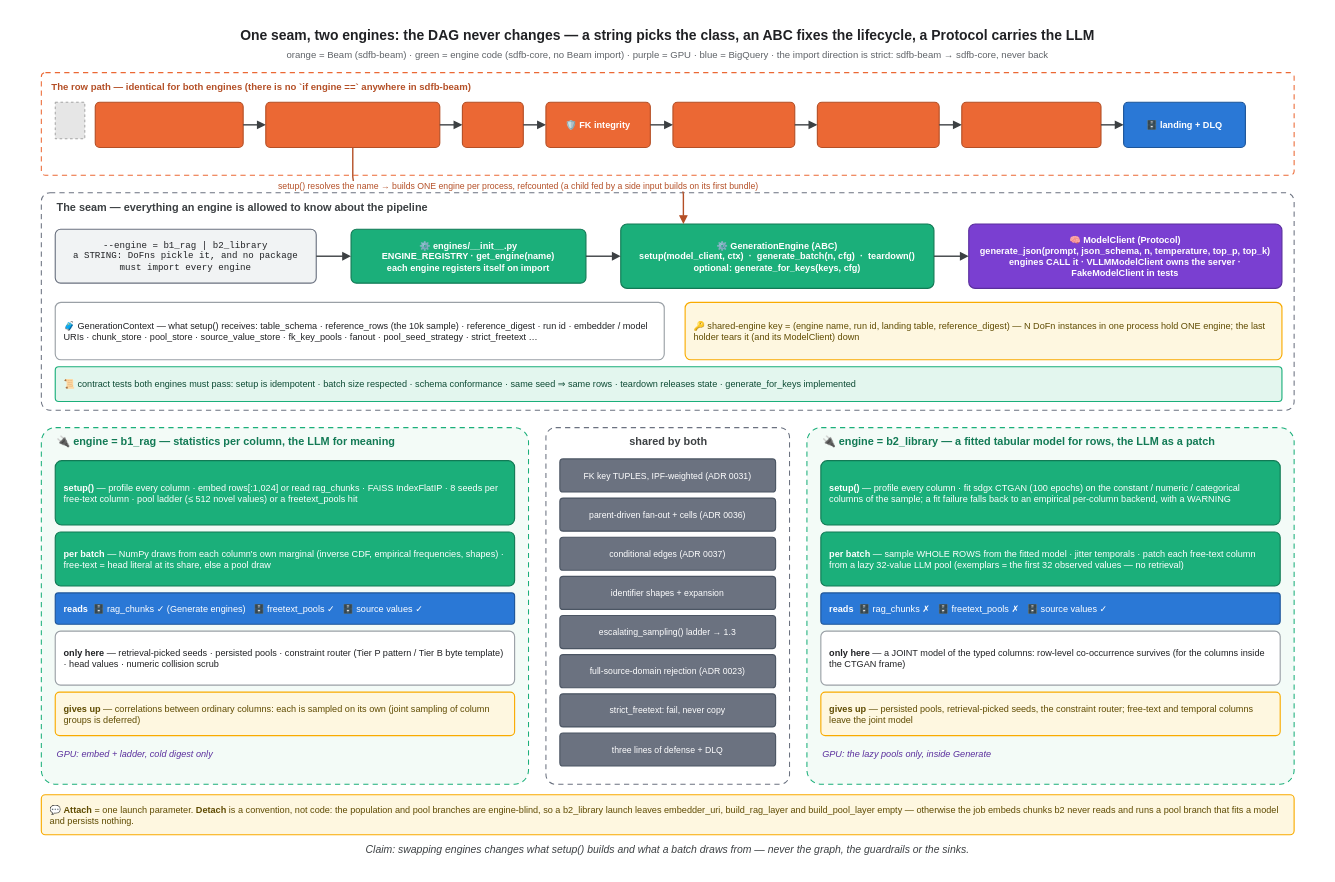
This 1335x882 diagram has some shape labels left out. Grey dashed boxes stand in for pictures. The shapes that lost their labels are listed below. From the top down, each one's centre as x and y in pixels, then its label:
At pixel 168 124: "🔀 CreateRequests or parent-key batches".
At pixel 352 124: "🔀 Generate DoFn setup · process · teardown".
At pixel 492 124: "🧺 rows".
At pixel 733 124: "🛡️ ValidateRecord Pydantic".
At pixel 877 124: "🛡️ PanderaValidate per batch".
At pixel 1031 124: "🛡️ EnforceUniqueness".
